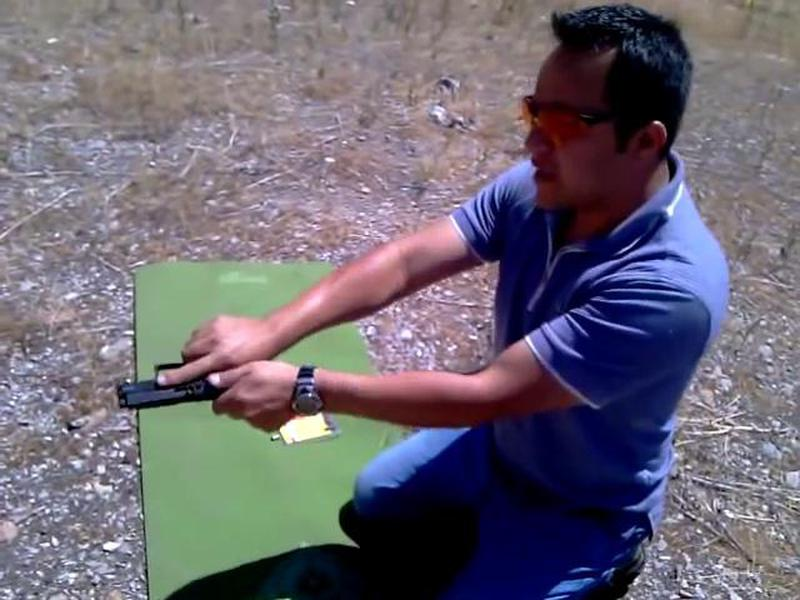Pistola: (113, 327, 240, 418)
